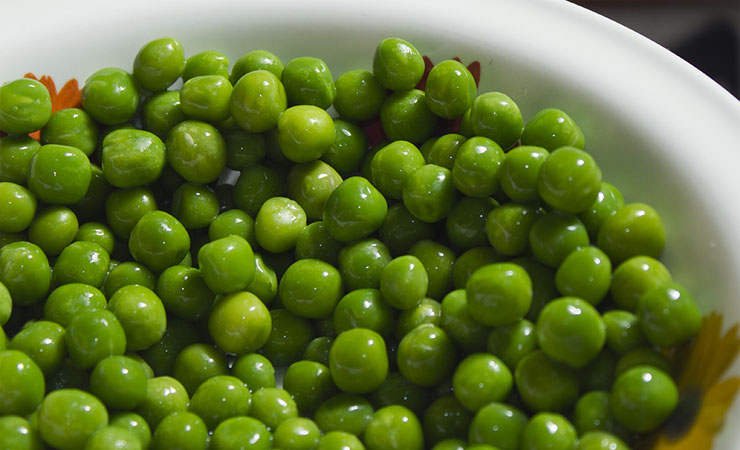boiled peas: (5, 71, 666, 448)
